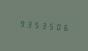five: (31, 18, 37, 30), (45, 20, 51, 31)
nine: (17, 17, 23, 29)
six: (59, 21, 65, 32)
three: (38, 19, 44, 31), (24, 18, 30, 29)
zero: (52, 20, 58, 32)
